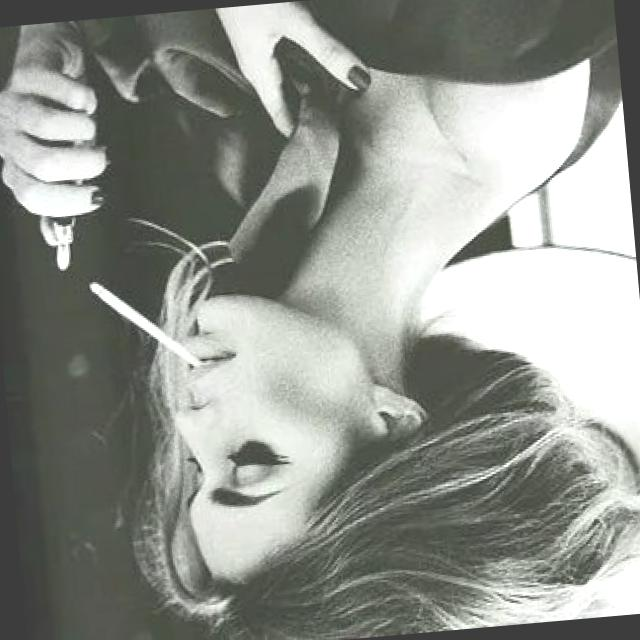cigarette: (81, 260, 208, 382)
